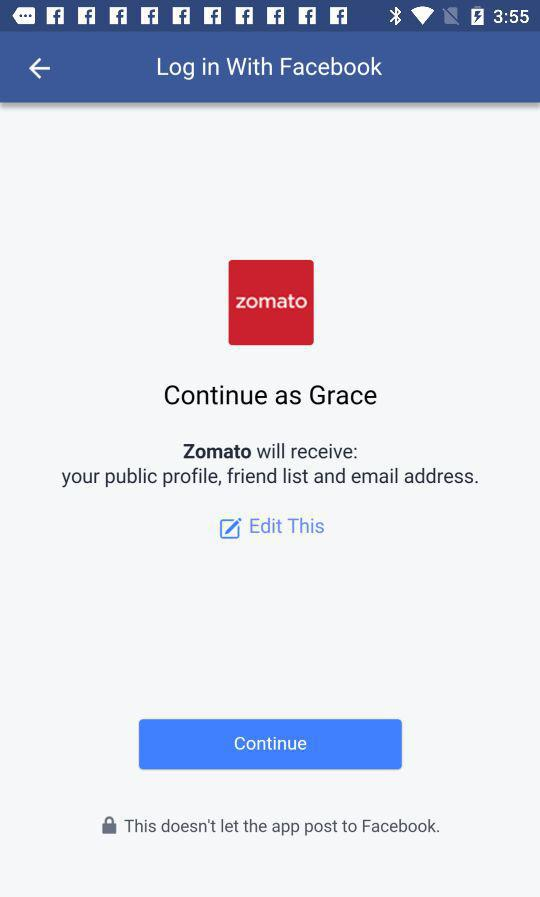Icon: (220, 518, 244, 540), (30, 58, 51, 80), (102, 815, 118, 835)
Image: (229, 260, 315, 346)
Text: (62, 468, 481, 489), (125, 818, 440, 836), (157, 57, 383, 82), (165, 385, 378, 408), (183, 443, 360, 461), (250, 517, 325, 535)
TextButton: (139, 719, 402, 770)
UpperTaskBar: (1, 1, 540, 33)
